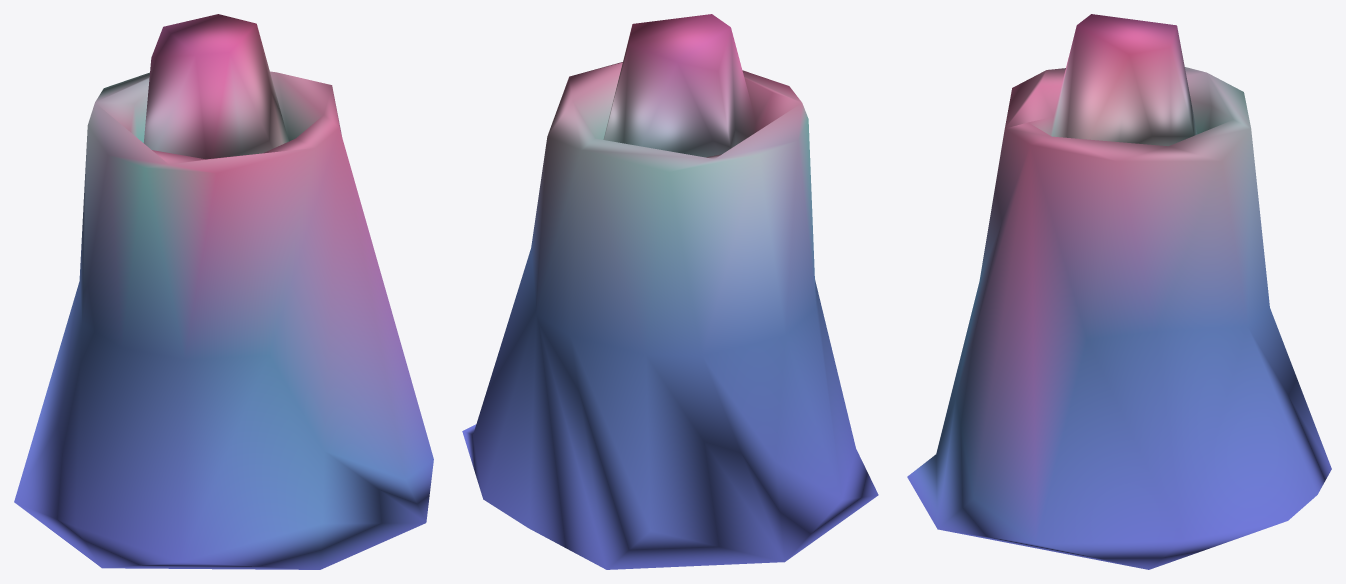
3 views of the same model, side by side, from view 1: azimuth 30°, elevation 25°; view 2: azimuth 150°, elevation 25°; view 3: azimuth 270°, elevation 25° (orthographic).
Visible parts, largest first — view 1: LOD 2_66b44345-b092-516a-9375-229ed2953ce6; view 2: LOD 2_66b44345-b092-516a-9375-229ed2953ce6; view 3: LOD 2_66b44345-b092-516a-9375-229ed2953ce6.
Boxes of the visible parts, x1,y1,x2,y2 form: LOD 2_66b44345-b092-516a-9375-229ed2953ce6: [14, 14, 433, 569]; LOD 2_66b44345-b092-516a-9375-229ed2953ce6: [462, 14, 878, 569]; LOD 2_66b44345-b092-516a-9375-229ed2953ce6: [907, 14, 1331, 569].
Bounding box in the file's own units: 1.2 × 1.47 × 1.23.
